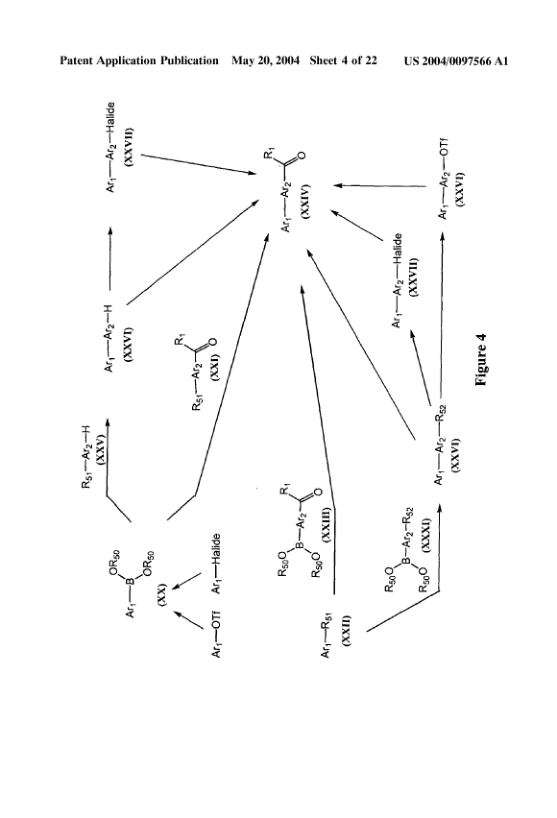compound-structure: (80, 532, 252, 665), (266, 473, 331, 591), (162, 327, 225, 431), (252, 138, 317, 233), (86, 94, 134, 198), (383, 504, 431, 597), (386, 228, 426, 332), (424, 400, 463, 499), (429, 132, 466, 228), (99, 295, 140, 379), (69, 418, 105, 491), (320, 606, 351, 663)
reaction: (53, 88, 506, 697)
reaction-arrow: (299, 246, 418, 471), (146, 199, 277, 321), (143, 147, 255, 206), (96, 410, 132, 529), (327, 205, 380, 254), (329, 175, 426, 198), (402, 334, 432, 404), (436, 233, 447, 398), (99, 222, 120, 292)
